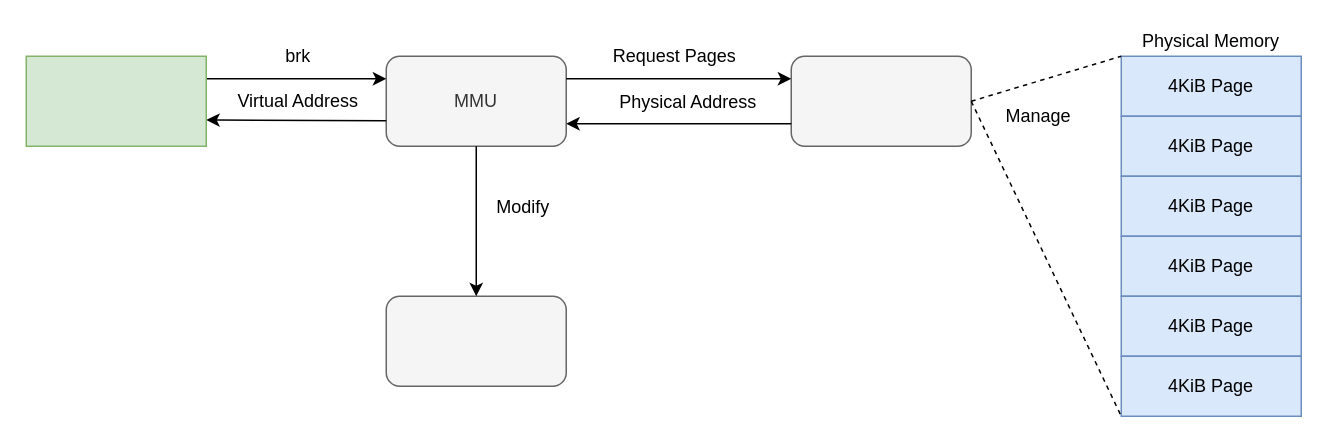
This 1328x444 diagram has some shape labels left out. The centre of each missing label's shape, as x and y in pixels:
"Pageframe Allocator" belongs at (x=880, y=100).
"Process with PID" belongs at (x=115, y=100).
"Process' Page Directory" belongs at (x=475, y=340).
